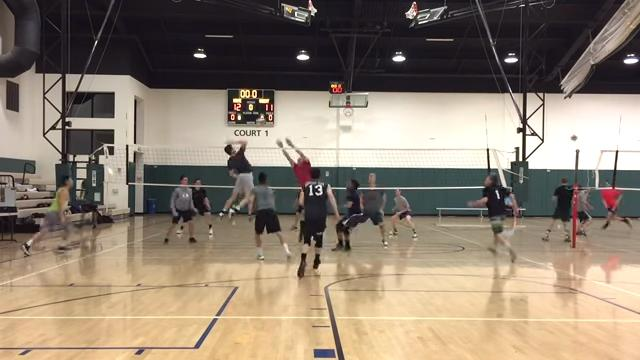Attack: (212, 135, 256, 229)
Block: (278, 134, 312, 228)
Player: (297, 168, 339, 277), (469, 174, 517, 261), (21, 176, 72, 255), (248, 173, 290, 259), (332, 179, 365, 250), (164, 175, 196, 243), (361, 173, 387, 246), (390, 189, 417, 239), (191, 179, 212, 235)
ball: (255, 117, 265, 126)
